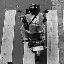motor: (18, 4, 49, 58)
